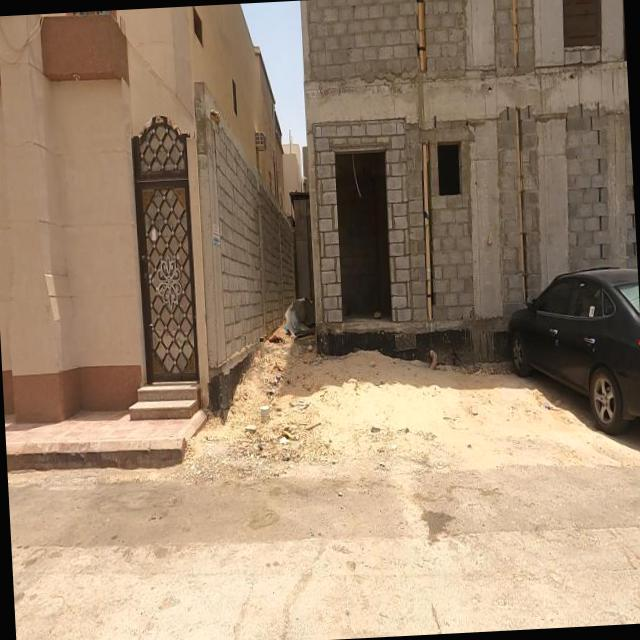debris: (252, 265, 340, 372)
